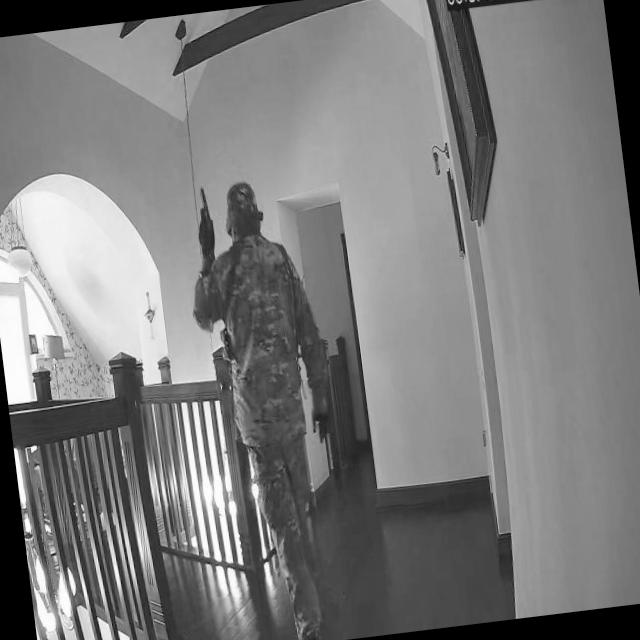gun: (192, 182, 215, 246)
person with a gun: (210, 169, 361, 640)
